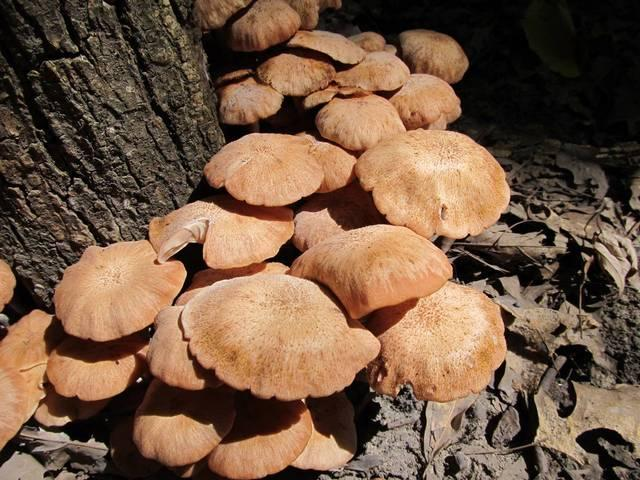edible_mushroom: (1, 0, 513, 479)
